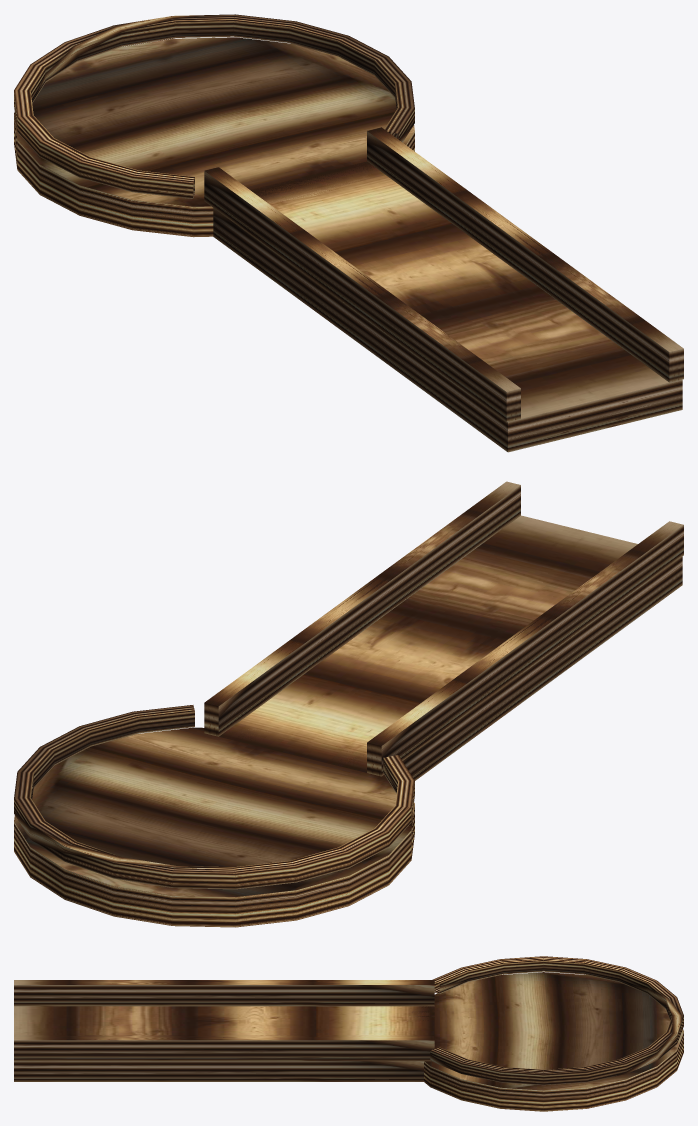
Rendered from Y - Finish.obj.
3 renders of one model, top to bottom at view 1: azimuth 30°, elevation 25°; view 2: azimuth 150°, elevation 25°; view 3: azimuth 270°, elevation 25°, orthographic. The views are drawn at different scales.
Parts seen in each view (by area): view 1: polySurface1; view 2: polySurface1; view 3: polySurface1.
Part boxes in pixels (x1,y1,x2,y2): polySurface1: (14,14,683,452); polySurface1: (14,481,683,927); polySurface1: (14,956,683,1111).
Bounding box in the file's own units: 120 × 20 × 287.
